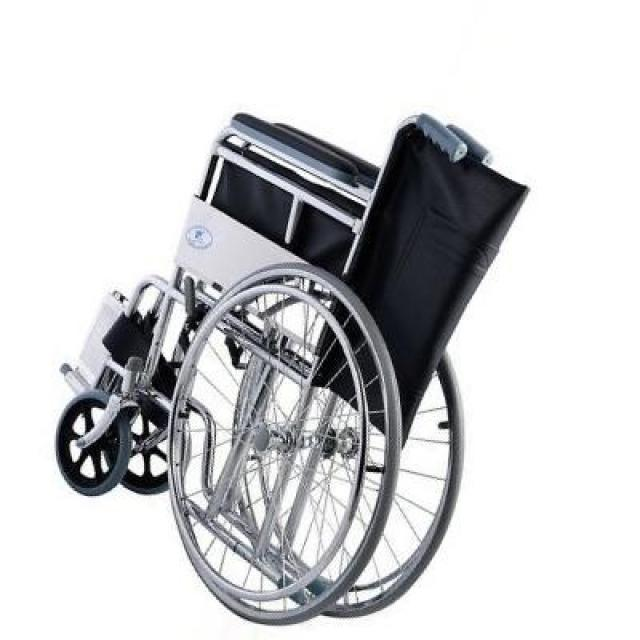wheelchair: (54, 83, 533, 638)
